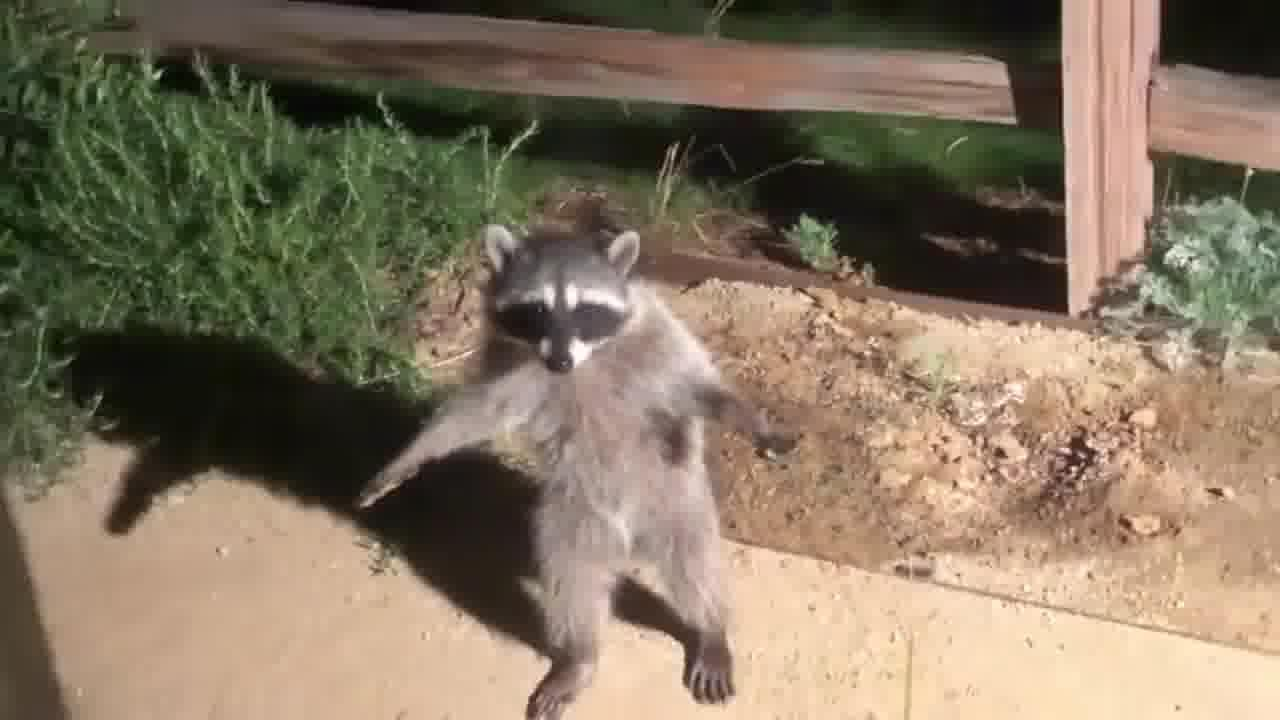raccoon: (348, 209, 814, 720)
